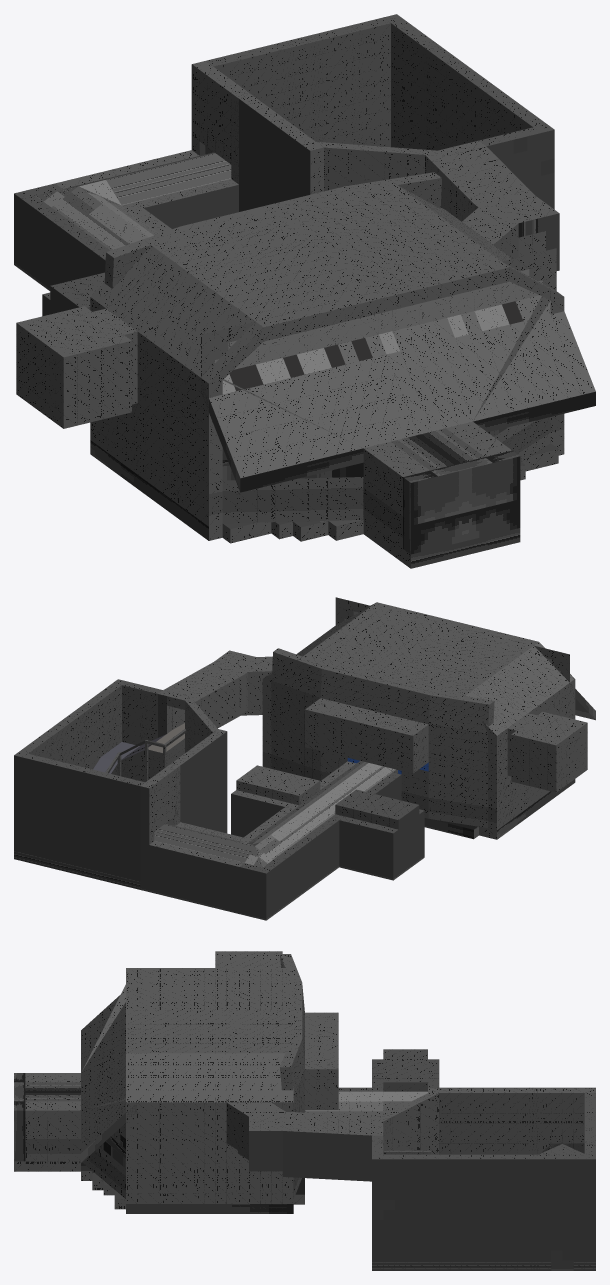
Rendered from Level1.glb.
3 renders of one model, top to bottom at view 1: azimuth 30°, elevation 25°; view 2: azimuth 150°, elevation 25°; view 3: azimuth 270°, elevation 25°, orthographic. The views are drawn at different scales.
Parts seen in each view (by area): view 1: Cube; view 2: Cube; view 3: Cube.
Part boxes in pixels (x1,y1,x2,y2): Cube: (14,14,595,568); Cube: (14,597,595,920); Cube: (14,951,595,1270).
Bounding box in the file's own units: 44 × 14 × 52.
6 materials, 6 textured.
